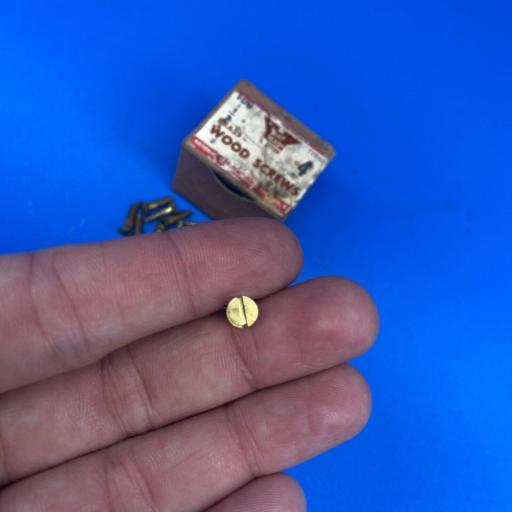Slotted: (224, 290, 259, 332)
